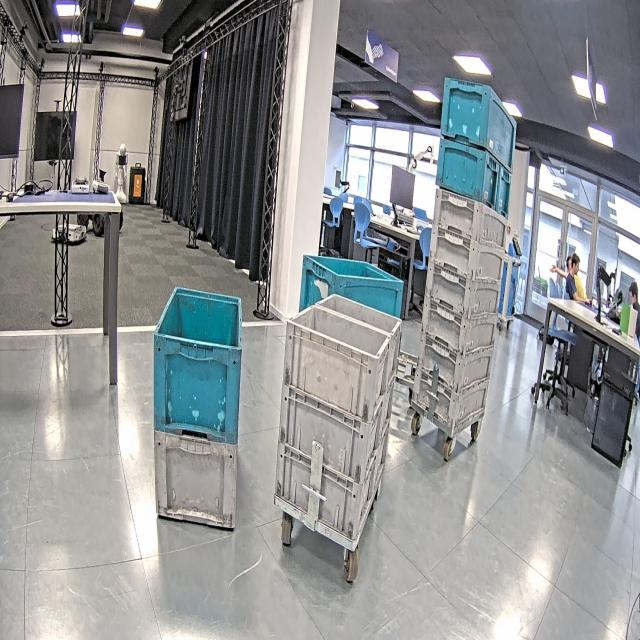Box3G: (428, 222, 508, 288), (429, 186, 509, 252), (412, 364, 489, 430), (420, 336, 500, 392), (424, 258, 501, 316), (421, 304, 499, 358)
Box4G: (154, 427, 239, 533)
Box8G: (281, 301, 391, 425), (282, 383, 400, 487), (273, 442, 374, 542)
BoxB4: (150, 283, 242, 441), (440, 68, 518, 175), (301, 254, 409, 323)
BoxB8: (434, 140, 498, 212)
